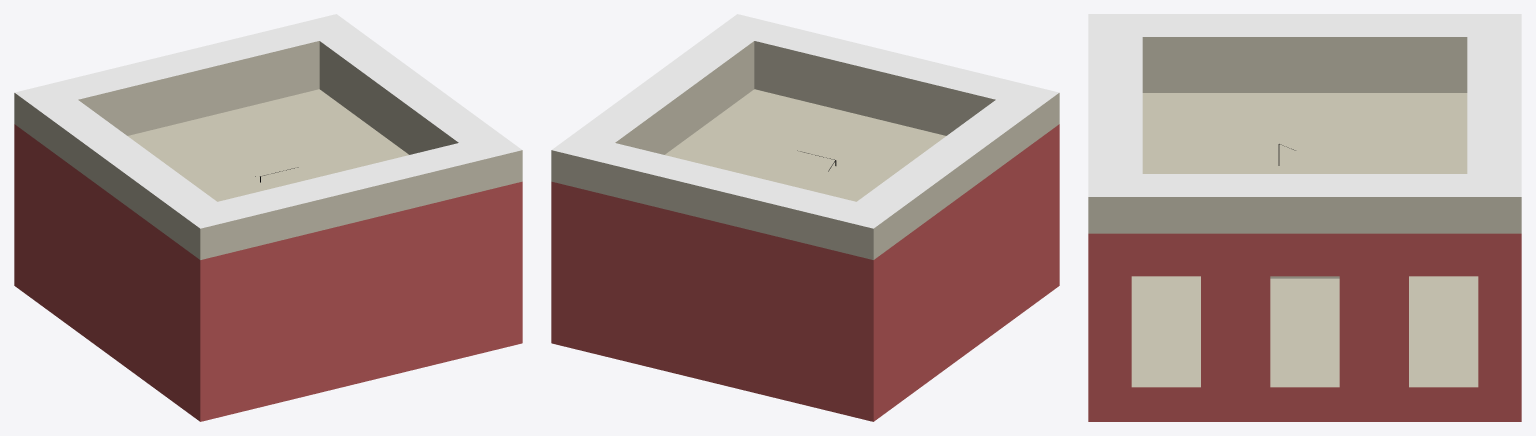
The model's file is Building 65.FBX.
3 views of the same model, side by side, from view 1: azimuth 30°, elevation 25°; view 2: azimuth 150°, elevation 25°; view 3: azimuth 270°, elevation 25° (orthographic). The views are drawn at different scales.
Parts seen in each view (by area): view 1: Group24; view 2: Group24; view 3: Group24.
Part boxes in pixels (x1,y1,x2,y2): Group24: (14,14,522,421); Group24: (551,14,1059,421); Group24: (1088,14,1521,421).
Bounding box in the file's own units: 29.53 × 16.93 × 29.53.
